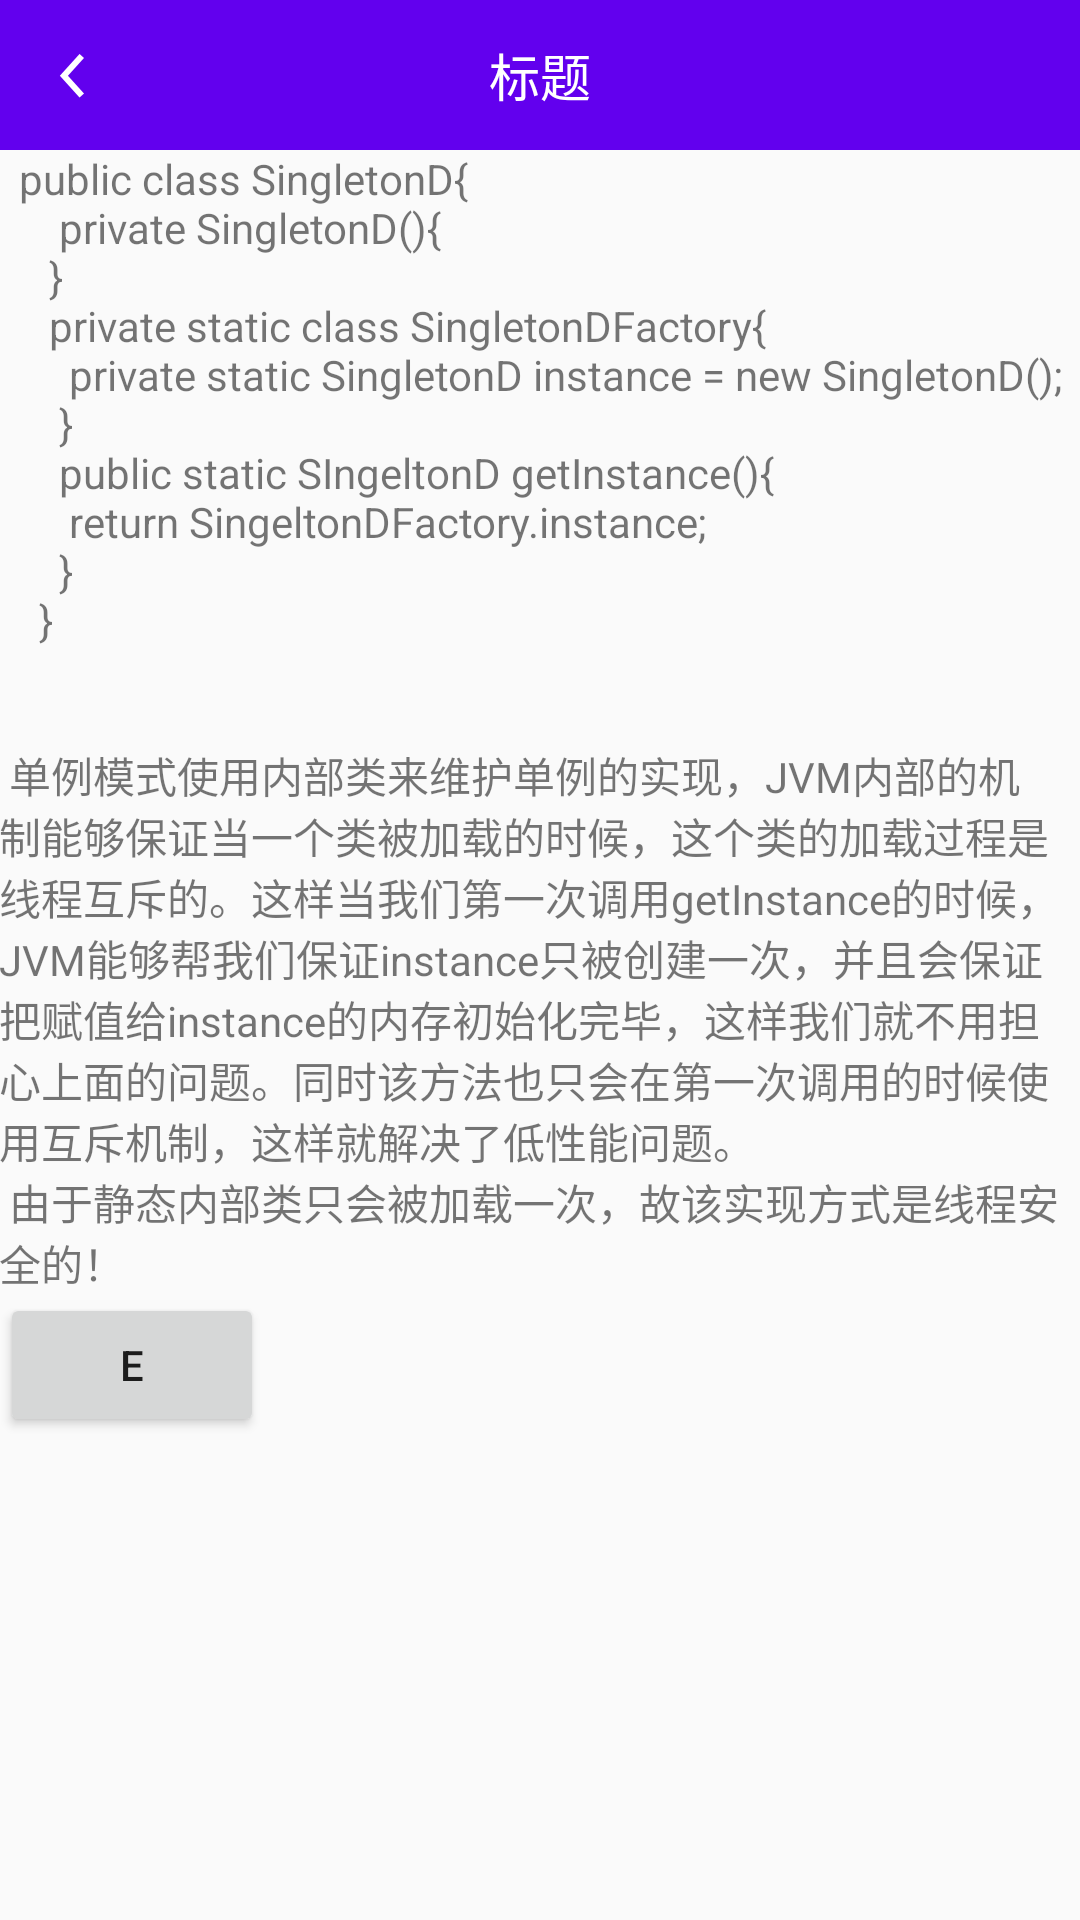

Icons on this 1080*1920 Android screen, each with the point to tap as (x=x, y=y):
back: (x=72, y=76)
